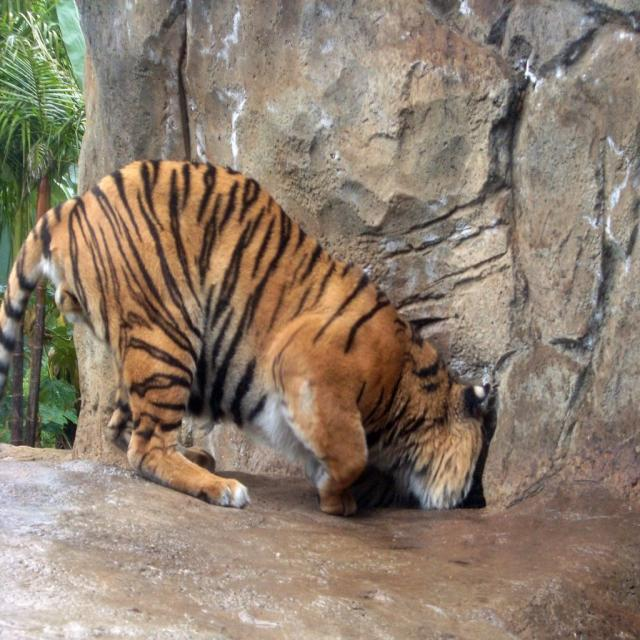Tiger: (0, 154, 490, 517)
